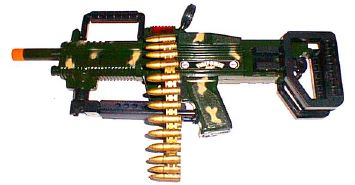rifle: (13, 6, 345, 180)
